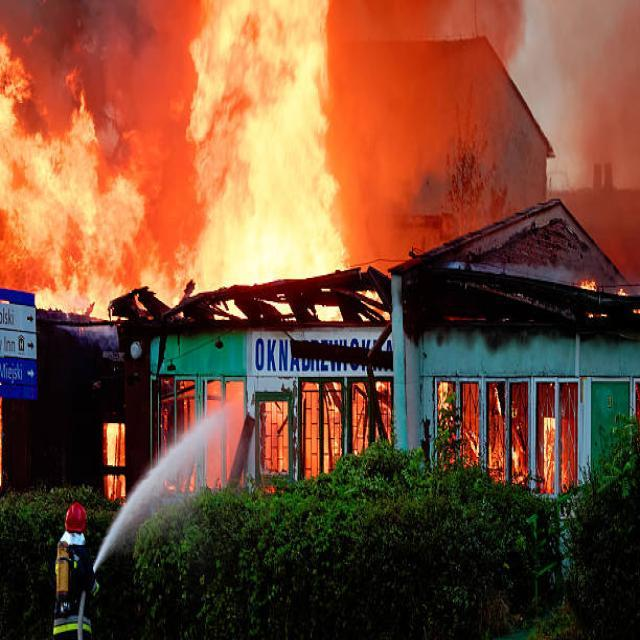Fire: (187, 0, 344, 276), (1, 2, 150, 286), (542, 393, 584, 506), (40, 271, 118, 321), (262, 408, 290, 481)
